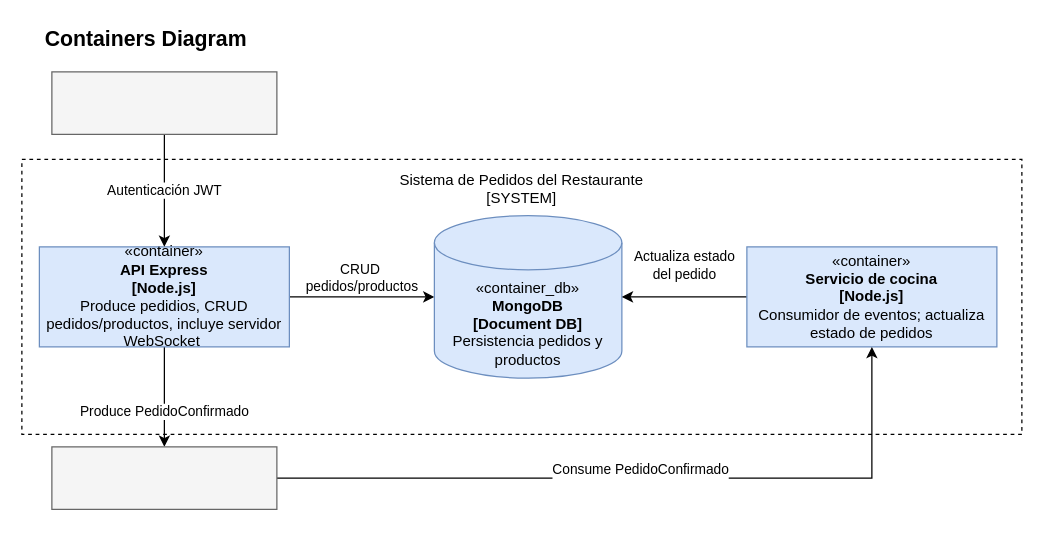
This 1044x533 diagram has some shape labels left out. The shapes that lost their labels are listed below. From the top down, each one's centre as x and y in pixels, then its label:
At (x=164, y=102): "«external_system» Keycloak Servidor autenticación OAuth2".
At (x=164, y=477): "«external_system» RabbitMQ Broker".
